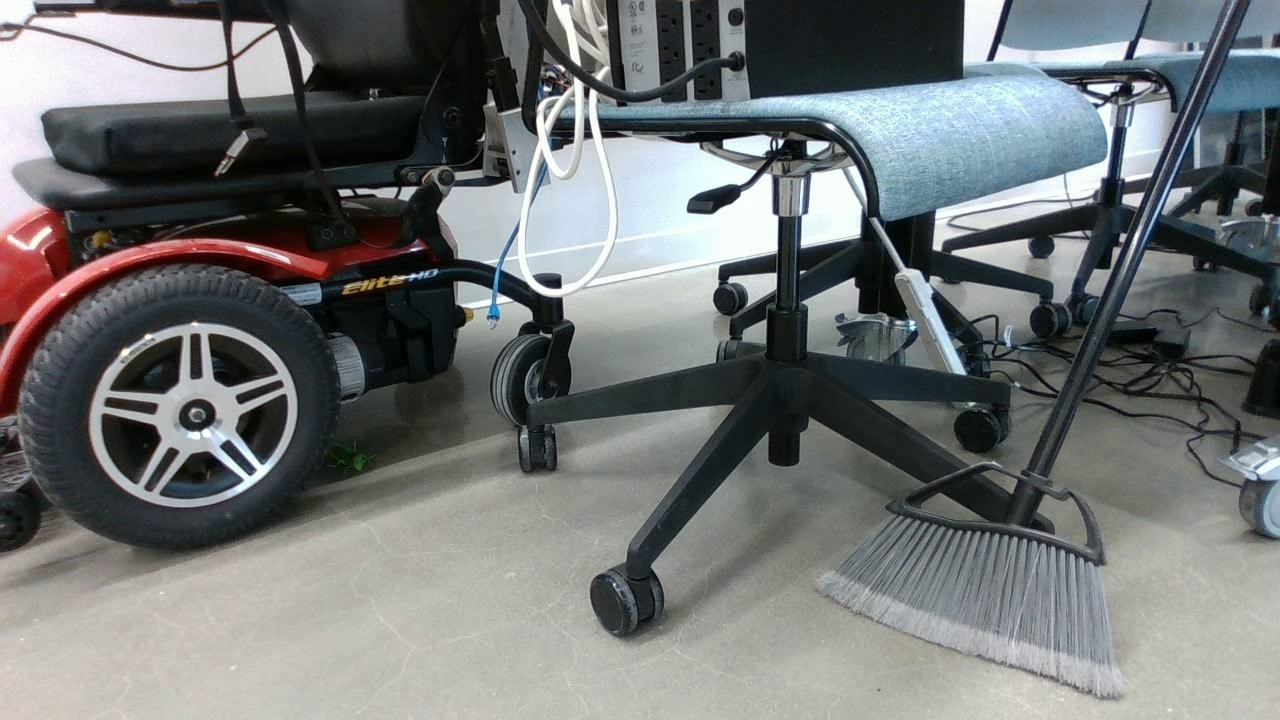grasshopper: (321, 438, 377, 471)
